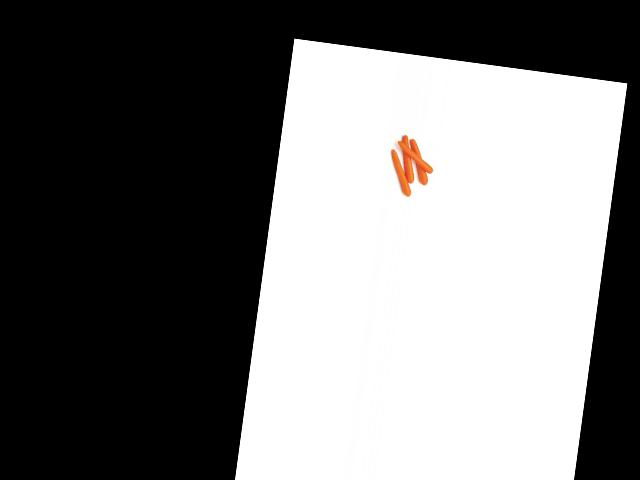carrot: (405, 138, 435, 188)
